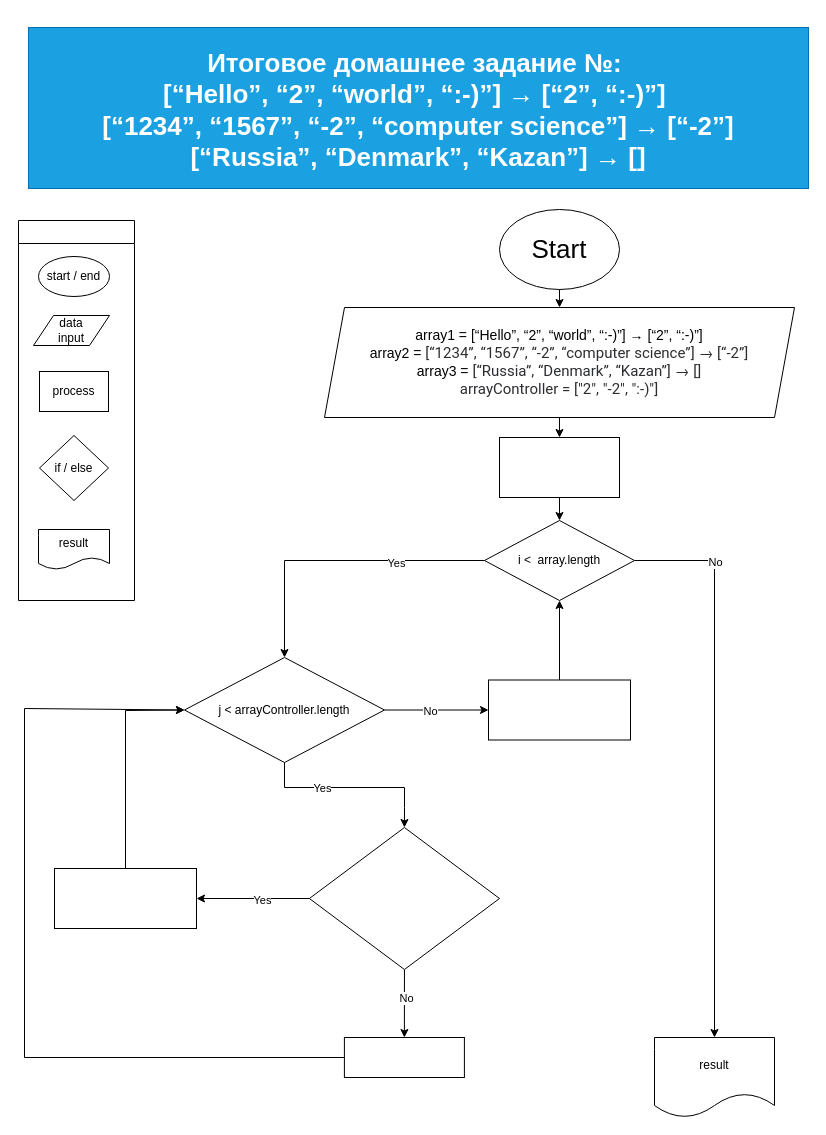
Some shapes in this 826 by 1135 pixel diagram are drawn without their labels. Each missing label, with the box of its shape:
arrayController[j] == array[i]: (308, 826, 500, 970)
i = 0, j = 0, result = "": (498, 436, 620, 498)
i = i + 1: (488, 679, 630, 740)
Information: (18, 220, 134, 600)
j = j + 1: (343, 1036, 464, 1078)
result = result + array[i] j = j + 1: (54, 868, 196, 928)
